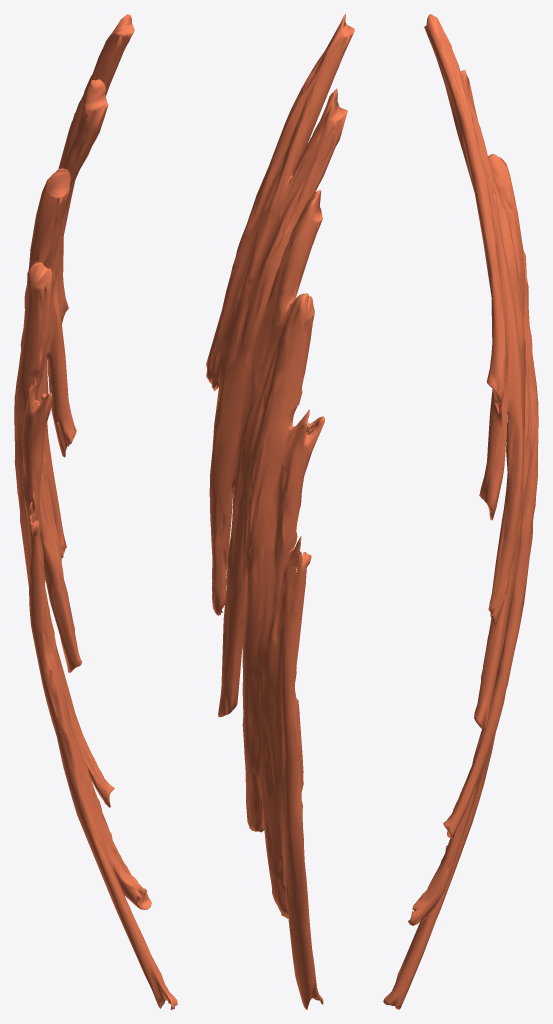
File: Semispinalis_thoracis.l_Generated_Mesh_From_X3D.225.glb
3 views of the same model, side by side, from view 1: azimuth 90°, elevation 25°; view 2: azimuth 150°, elevation 25°; view 3: azimuth 270°, elevation 25° (orthographic). The views are drawn at different scales.
Parts seen in each view (by area): view 1: Semispinalis_thoracis.l_Generated_Mesh_From_X3D.225; view 2: Semispinalis_thoracis.l_Generated_Mesh_From_X3D.225; view 3: Semispinalis_thoracis.l_Generated_Mesh_From_X3D.225.
Boxes of the visible parts, box(x1,y1,x2,y2) form: Semispinalis_thoracis.l_Generated_Mesh_From_X3D.225: box(14, 14, 177, 1009); Semispinalis_thoracis.l_Generated_Mesh_From_X3D.225: box(206, 14, 354, 1009); Semispinalis_thoracis.l_Generated_Mesh_From_X3D.225: box(383, 14, 538, 1009).
Size of the model in its own units: 0.0354 by 0.2814 by 0.0408.
